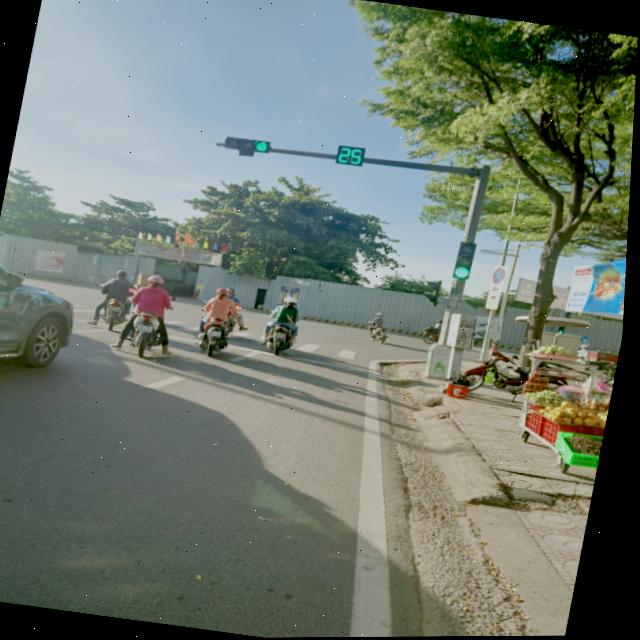Green: (223, 126, 282, 163), (449, 234, 486, 285)
